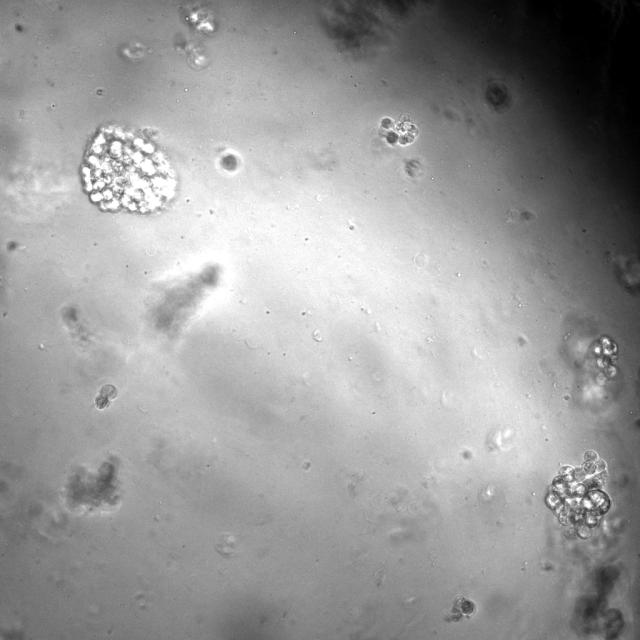organoid: (80, 125, 177, 214), (319, 0, 432, 56), (559, 314, 622, 412), (546, 451, 611, 540), (150, 263, 221, 334), (572, 565, 624, 639), (62, 457, 120, 514), (592, 335, 618, 385), (174, 33, 209, 70), (181, 0, 216, 36), (379, 114, 418, 145), (443, 595, 475, 622), (486, 80, 510, 111), (118, 41, 148, 61), (95, 385, 117, 408), (221, 153, 238, 171), (312, 329, 322, 341)
